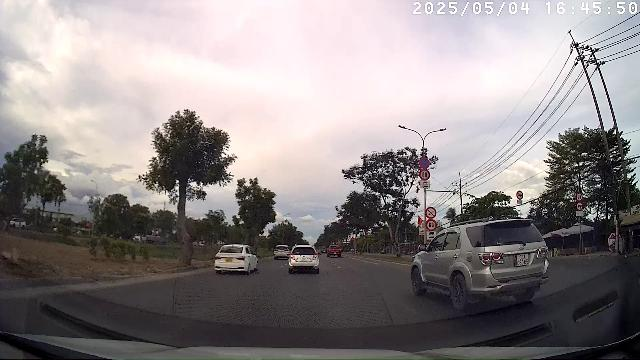127-toc-do-toi-da-50: (575, 192, 583, 202)
127-toc-do-toi-da-60: (426, 219, 437, 231)
127-toc-do-toi-da-80: (419, 169, 430, 180)
130-cam-dung-va-do-xe: (419, 157, 430, 169)
